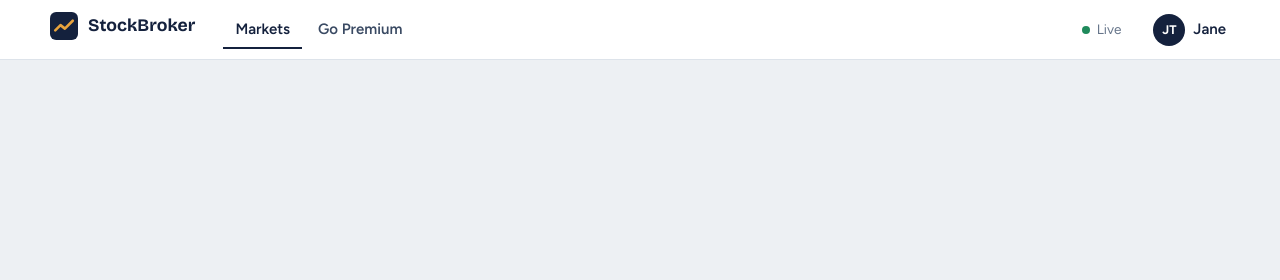
Navbar › closes the menu when clicking elsewhere
Click the button "JT Jane" at [1190, 30], box [1149, 10, 1230, 50]
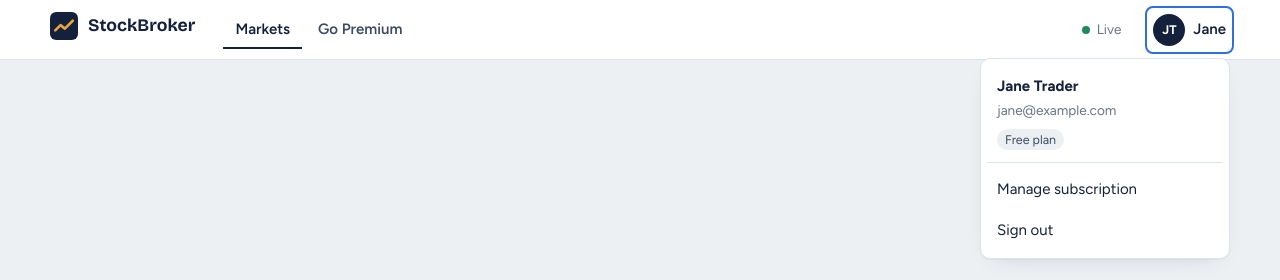
Check: the menu is shown, box [980, 58, 1230, 259]
Click the element that starts with "StockBroker" at [640, 30], box [0, 0, 1279, 60]
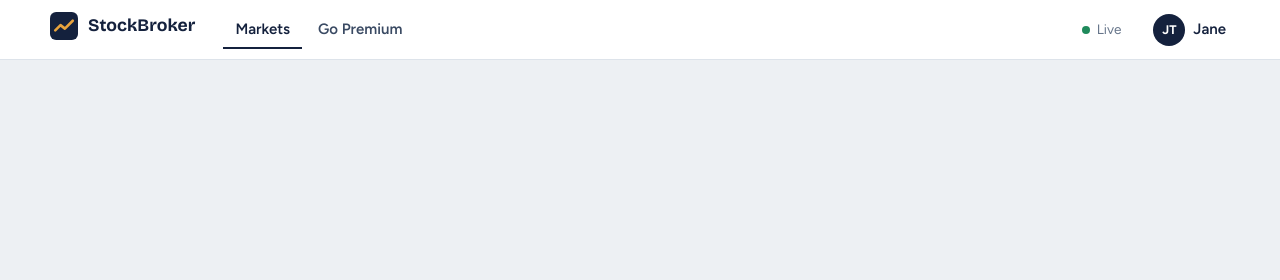
Check: the menu is gone
